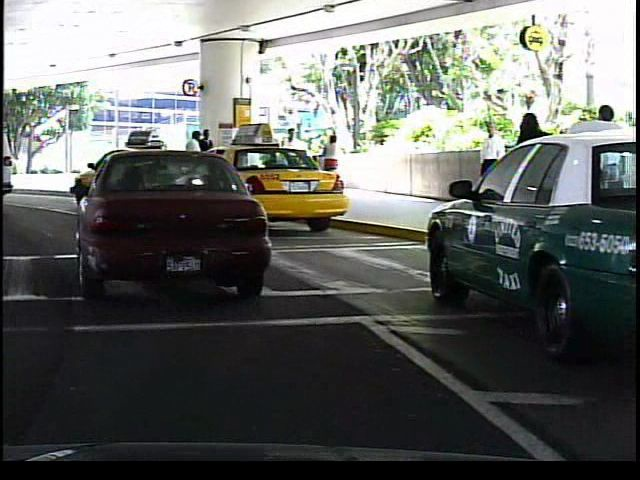person: (505, 107, 558, 253), (581, 97, 629, 249), (472, 115, 507, 216), (275, 123, 303, 193), (180, 129, 206, 195), (316, 130, 341, 189), (198, 126, 217, 193)
